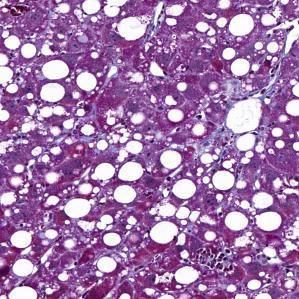fibrosis: (227, 78, 279, 103)
